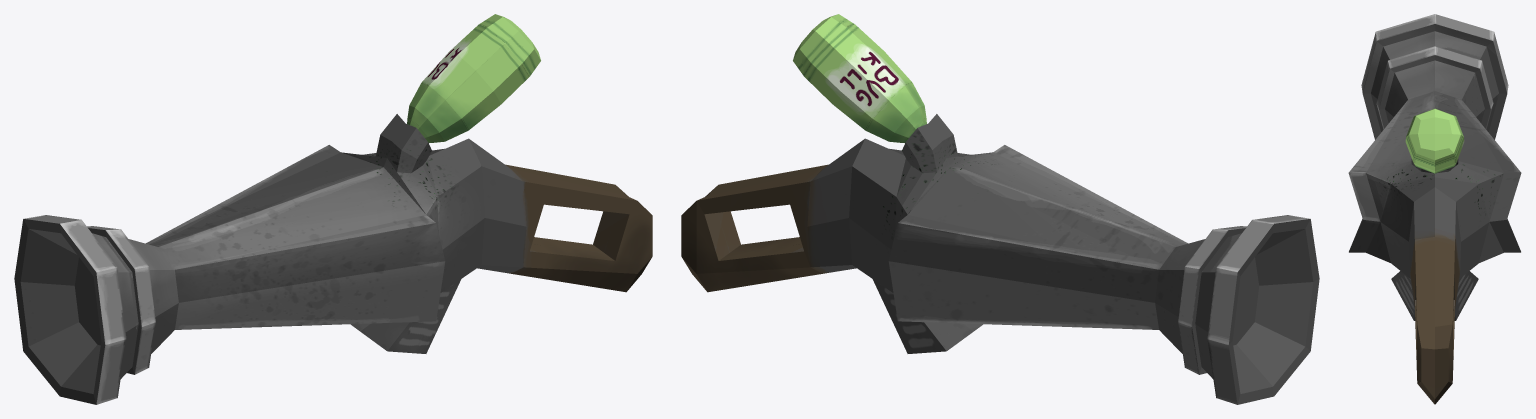
Rendered from Sprayer-1.fbx.
3 views of the same model, side by side, from view 1: azimuth 30°, elevation 25°; view 2: azimuth 150°, elevation 25°; view 3: azimuth 270°, elevation 25° (orthographic). The views are drawn at different scales.
Parts seen in each view (by area): view 1: Weapon-1-Sprayer, Bottle; view 2: Weapon-1-Sprayer, Bottle; view 3: Weapon-1-Sprayer, Bottle.
Boxes of the visible parts, bbox=[...] form: Weapon-1-Sprayer: bbox=[14, 114, 652, 404]; Bottle: bbox=[407, 14, 540, 142]; Weapon-1-Sprayer: bbox=[681, 114, 1319, 404]; Bottle: bbox=[793, 14, 926, 142]; Weapon-1-Sprayer: bbox=[1348, 14, 1521, 404]; Bottle: bbox=[1405, 108, 1464, 173].
Bounding box in the file's own units: 1671 × 835 × 530.
2 materials, 2 textured.
